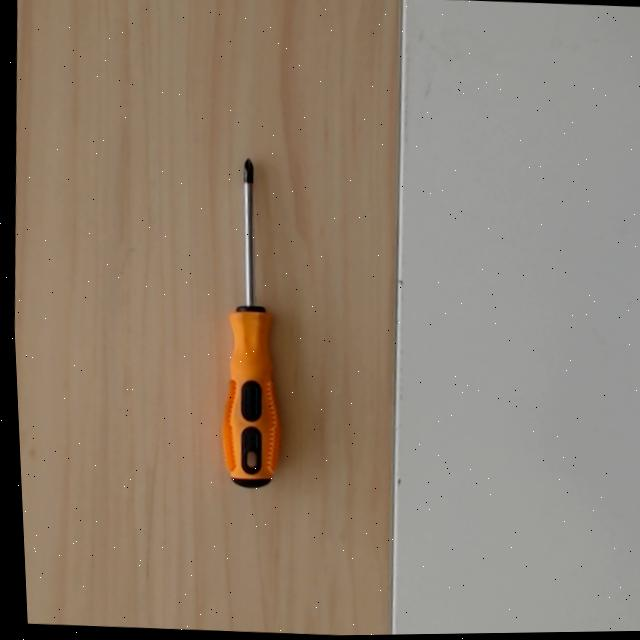Obeng-Besar: (212, 158, 281, 489)
